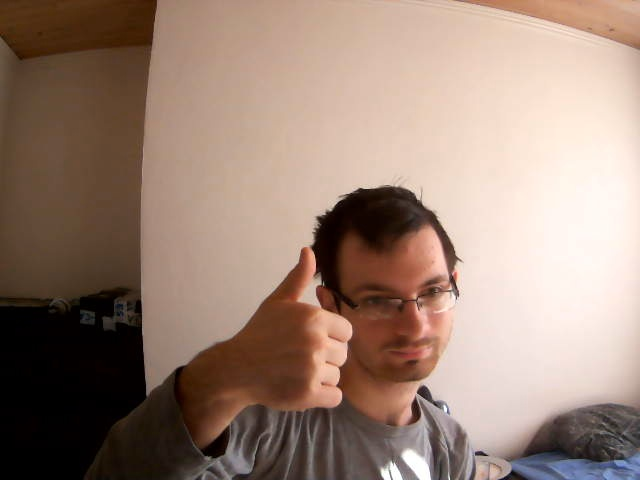nice: (245, 244, 353, 415)
